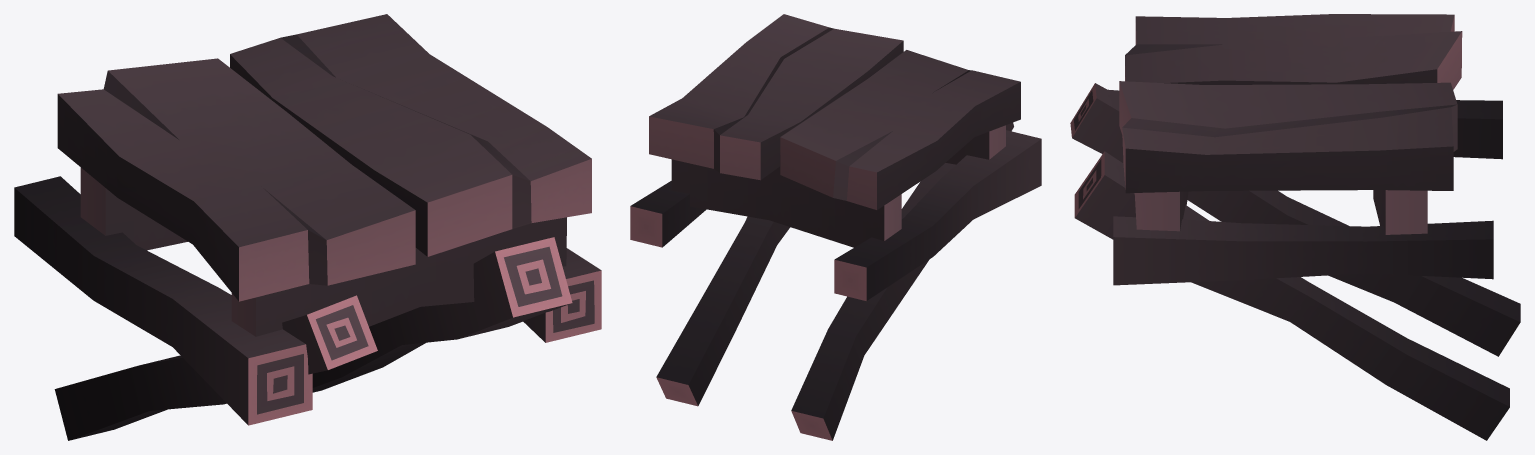
The model's file is undead_scaffolding_1x1_wall_mounted.fbx.
3 views of the same model, side by side, from view 1: azimuth 30°, elevation 25°; view 2: azimuth 150°, elevation 25°; view 3: azimuth 270°, elevation 25° (orthographic). The views are drawn at different scales.
Parts seen in each view (by area): view 1: undead_scaffolding_1x1_wall_mounted; view 2: undead_scaffolding_1x1_wall_mounted; view 3: undead_scaffolding_1x1_wall_mounted.
Part boxes in pixels (<box>): undead_scaffolding_1x1_wall_mounted: <box>14,14,601,440</box>; undead_scaffolding_1x1_wall_mounted: <box>630,14,1041,440</box>; undead_scaffolding_1x1_wall_mounted: <box>1070,14,1520,440</box>.
Bounding box in the file's own units: 1.03 × 1.05 × 1.34.
